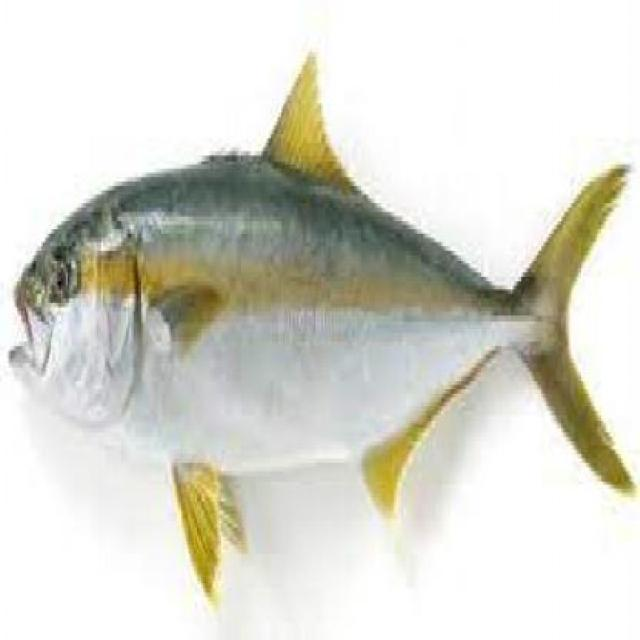Kingfish: (0, 30, 638, 566)
